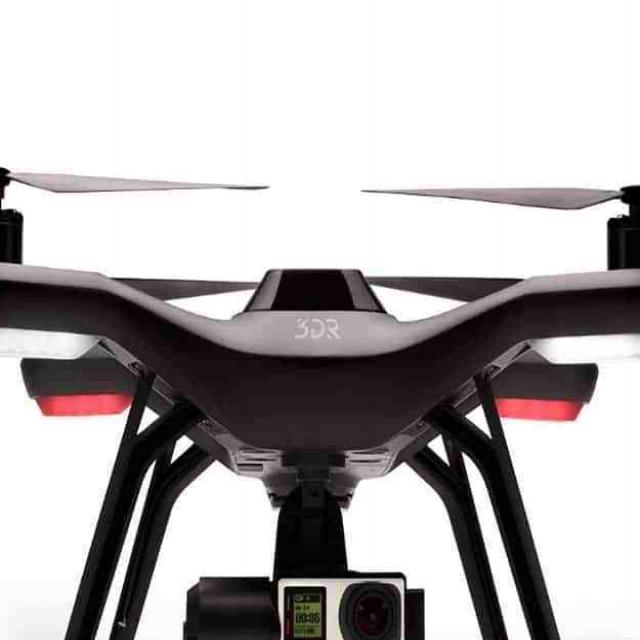drone: (0, 127, 640, 450)
